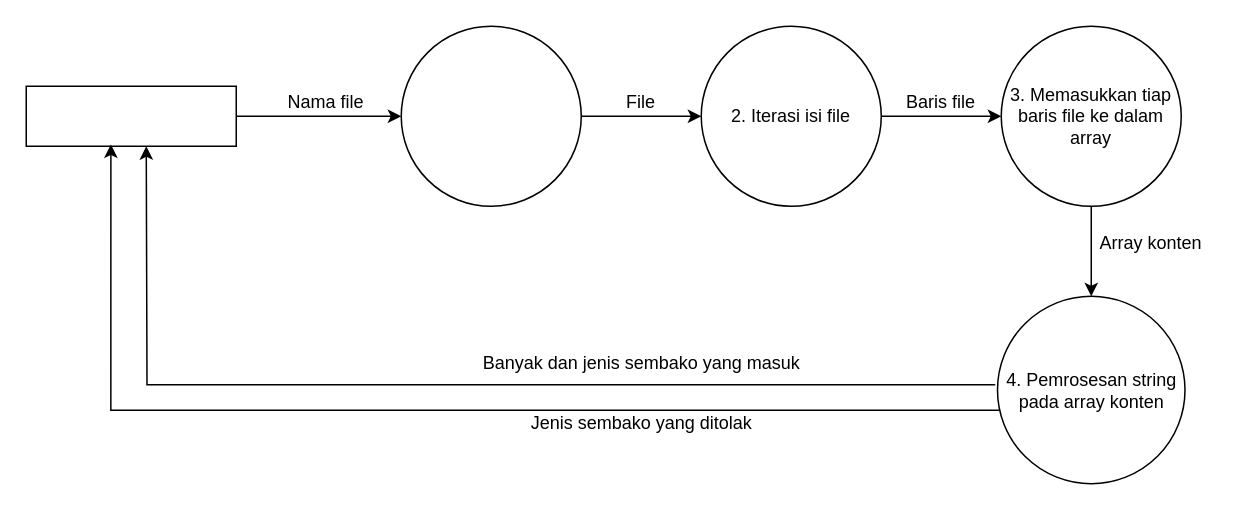
Image size: 1238x510. Some labels were removed from this diagram. Each missing label, with the centre of its shape:
1. Validasi nama file: the point at 490,115
Pengguna: the point at 130,115
